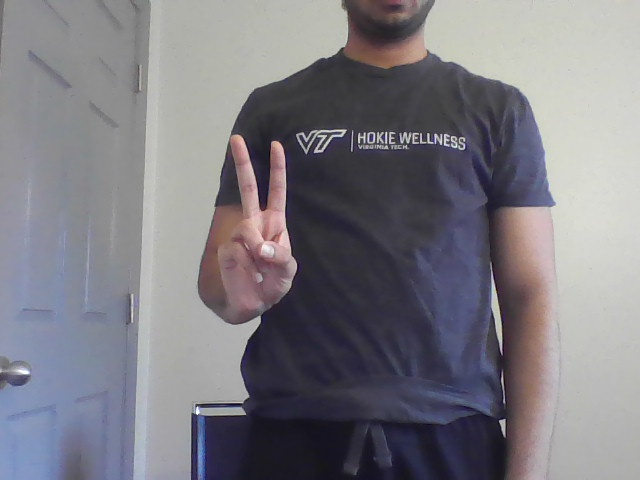two: (213, 132, 301, 317)
